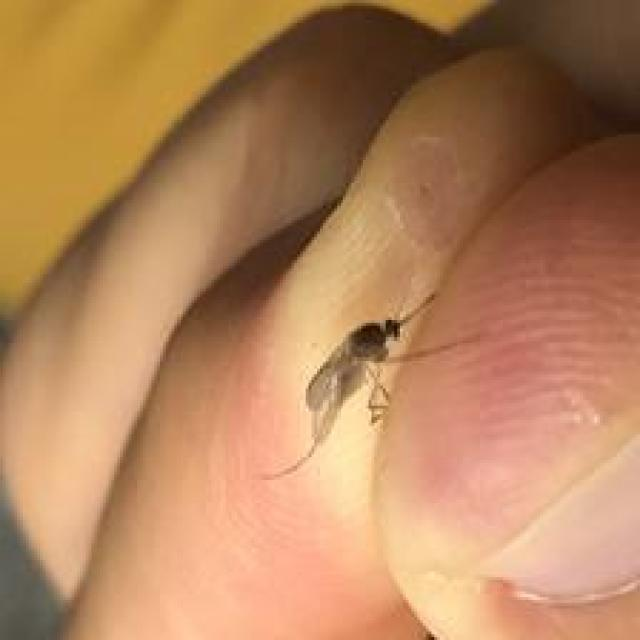Culex: (262, 289, 438, 480)
